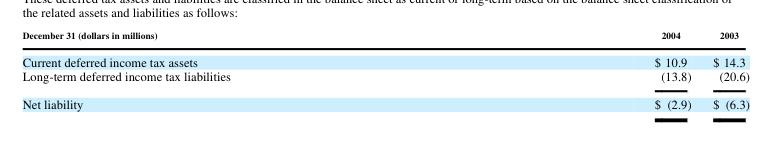table: (21, 28, 748, 111)
table column: (21, 28, 441, 111), (441, 28, 701, 111), (701, 28, 748, 111)
table column header: (21, 28, 748, 47)
table row: (21, 89, 748, 111), (21, 47, 748, 68), (21, 68, 748, 89), (21, 28, 748, 47)
